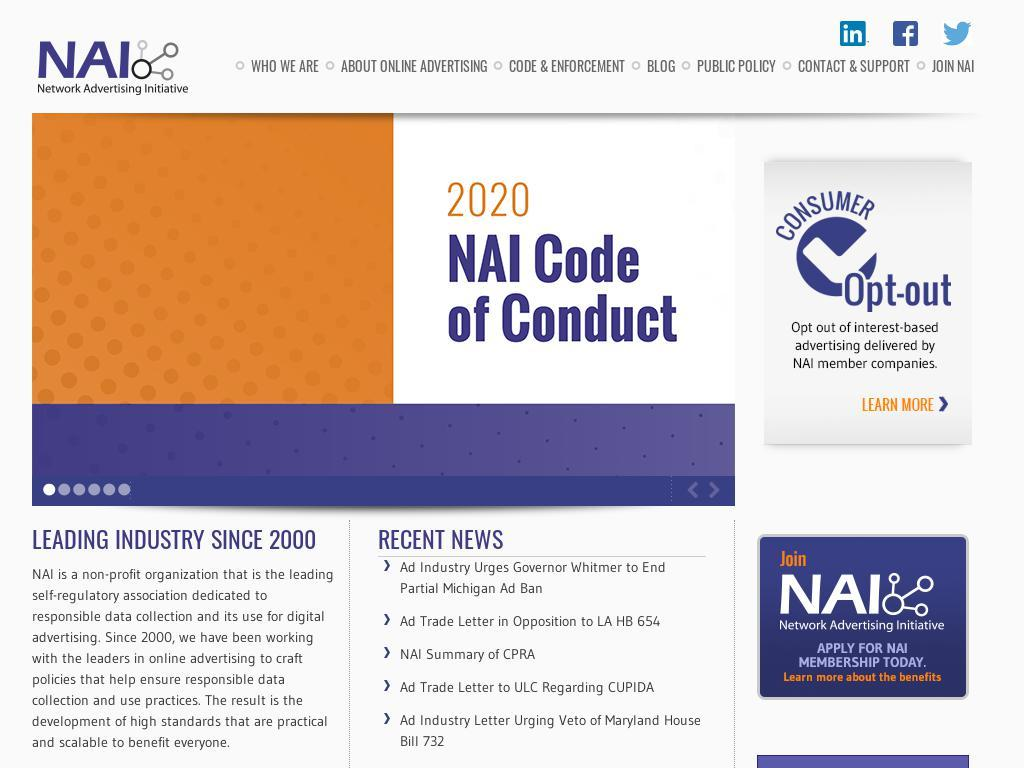button: (32, 32, 193, 101), (324, 51, 487, 72), (492, 51, 625, 72), (781, 51, 910, 72), (680, 51, 776, 72), (234, 51, 319, 72), (915, 51, 974, 72), (630, 51, 675, 72), (43, 483, 56, 496), (58, 483, 71, 496), (73, 483, 86, 496), (88, 483, 101, 496), (103, 483, 116, 496), (118, 483, 131, 496)
heading: (377, 526, 706, 550), (32, 526, 335, 550), (377, 764, 427, 768)
image: (32, 113, 735, 476), (735, 113, 1024, 476), (757, 150, 980, 499), (757, 534, 970, 700), (32, 113, 992, 126), (0, 113, 32, 476), (32, 32, 193, 101), (757, 755, 970, 768), (941, 21, 973, 46), (840, 21, 869, 46), (892, 21, 918, 46)
link: (399, 711, 701, 750), (399, 558, 666, 597), (399, 612, 661, 630), (399, 678, 654, 696), (399, 645, 535, 663)
text: (32, 564, 335, 753)
